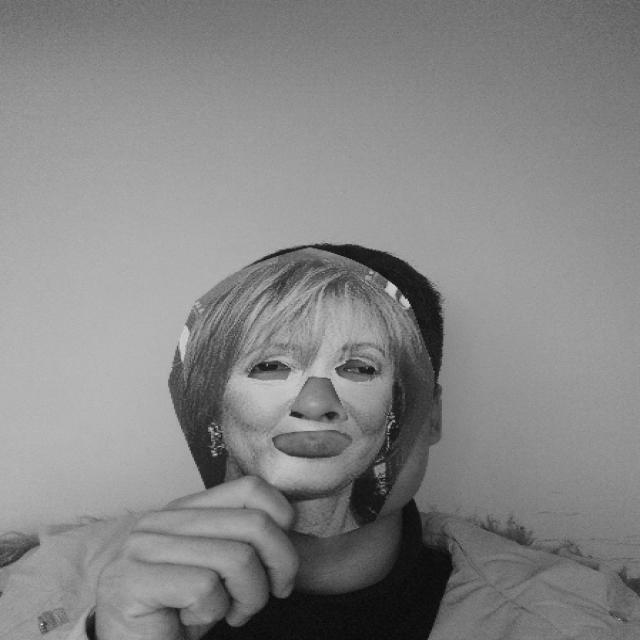fake: (165, 248, 435, 536)
